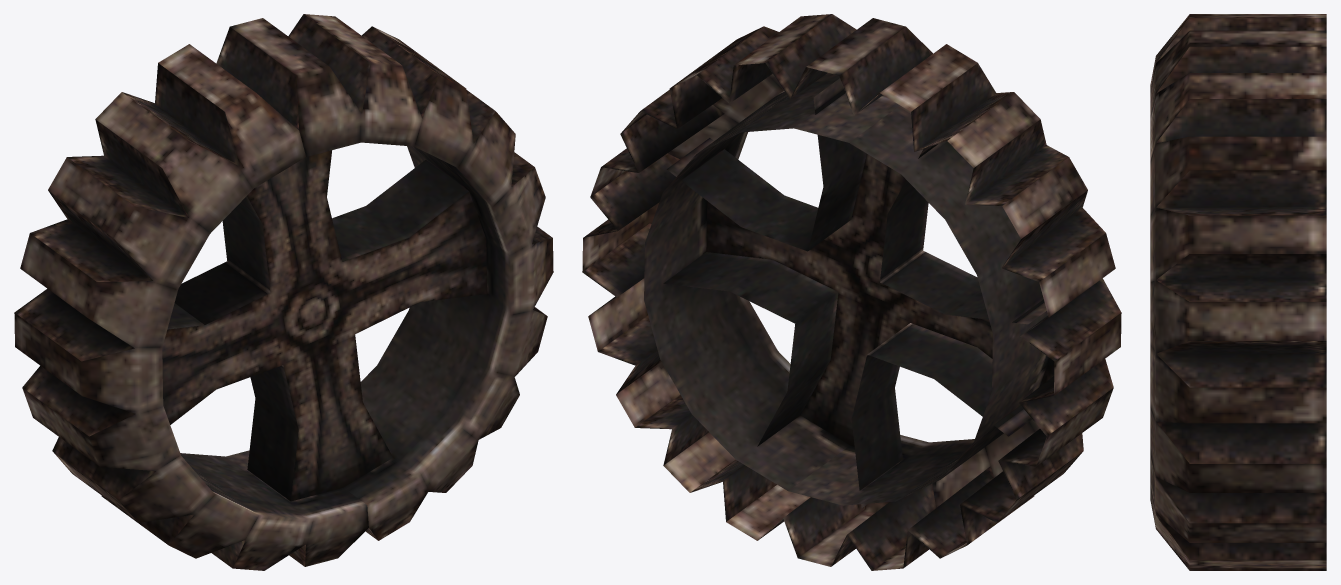
Rendered from elevator_machine_cog_small.dae.
3 renders of one model, left to right at view 1: azimuth 30°, elevation 25°; view 2: azimuth 150°, elevation 25°; view 3: azimuth 270°, elevation 25°, orthographic. The views are drawn at different scales.
Parts seen in each view (by area): view 1: cog_03; view 2: cog_03; view 3: cog_03.
Part boxes in pixels (x1,y1,x2,y2): cog_03: (14,14,553,570); cog_03: (582,14,1121,570); cog_03: (1150,14,1326,570).
Size of the model in its own units: 1.19 by 1.19 by 0.3774.
